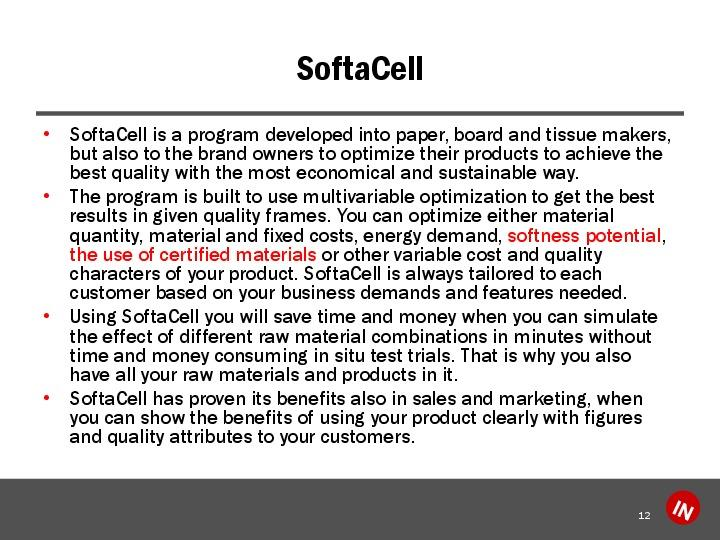paragraph: (36, 117, 683, 454)
title: (286, 48, 435, 102)
